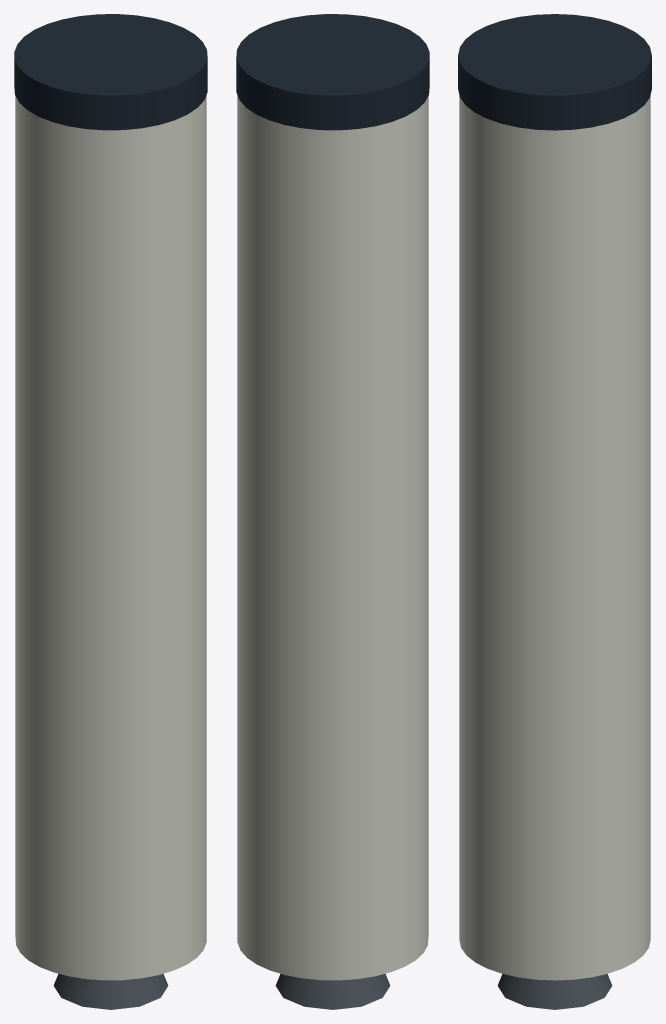
Rendered from soyuz-stage-2.glb.
3 views of the same model, side by side, from view 1: azimuth 30°, elevation 25°; view 2: azimuth 150°, elevation 25°; view 3: azimuth 270°, elevation 25° (orthographic).
Visible parts, largest first — view 1: body-1, interstage-1, engine-1-0; view 2: body-1, interstage-1, engine-1-0; view 3: body-1, interstage-1, engine-1-0.
Boxes of the visible parts, x1,y1,x2,y2 form: body-1: (15,95,206,980); interstage-1: (14,14,207,130); engine-1-0: (53,973,168,1009); body-1: (237,95,428,980); interstage-1: (236,14,429,130); engine-1-0: (275,973,390,1009); body-1: (459,95,650,980); interstage-1: (458,14,651,130); engine-1-0: (497,974,612,1009).
Size of the model in its own units: 2.99 by 15.83 by 2.99.
